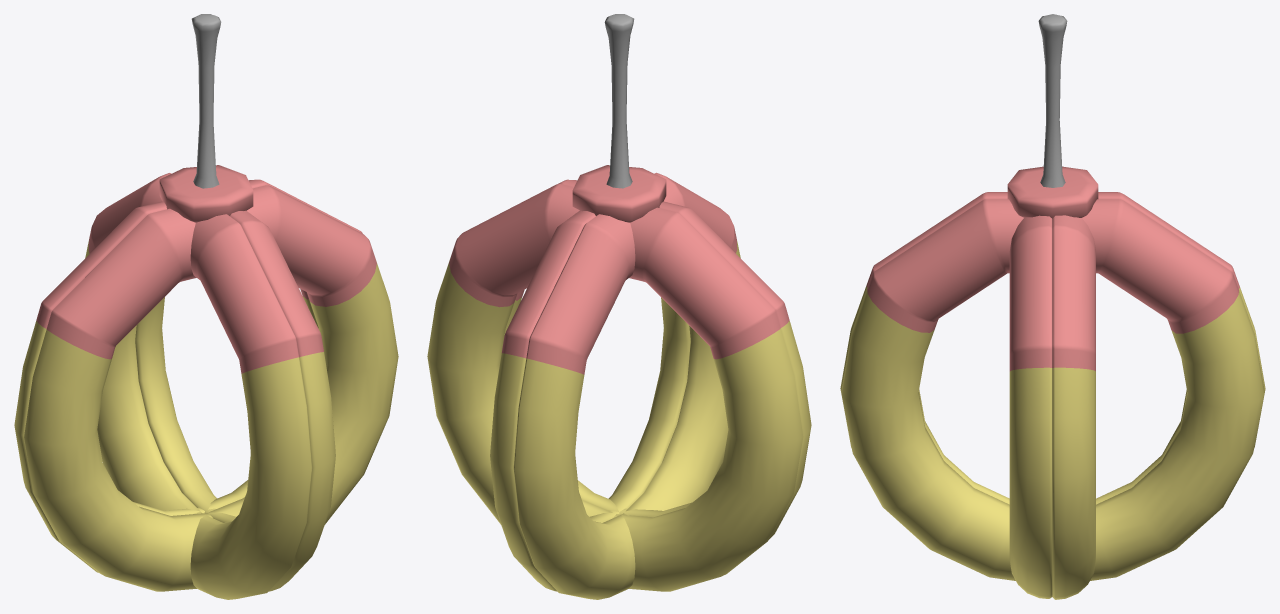
The model's file is HookGrabber.fbx.
The picture shows the model from 3 angles, left to right: view 1: azimuth 30°, elevation 25°; view 2: azimuth 150°, elevation 25°; view 3: azimuth 270°, elevation 25°; orthographic projection.
Visible parts, largest first — view 1: group4; view 2: group4; view 3: group4.
Part boxes in pixels (<box>): group4: <box>14,14,398,599</box>; group4: <box>427,14,811,599</box>; group4: <box>840,14,1265,599</box>.
Bounding box in the file's own units: 19.3 × 28.23 × 19.3.
